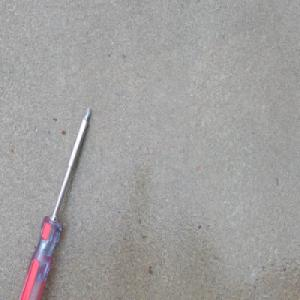Screwdriver: (13, 102, 92, 300)
